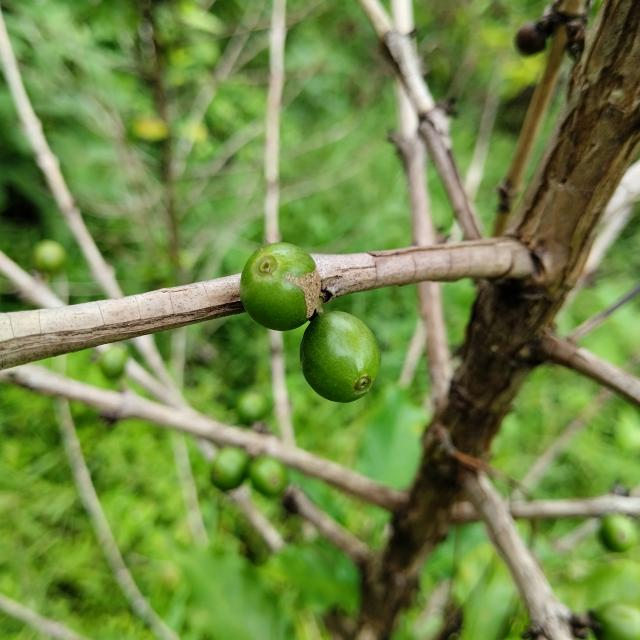green: (300, 311, 381, 403), (239, 242, 321, 331)
